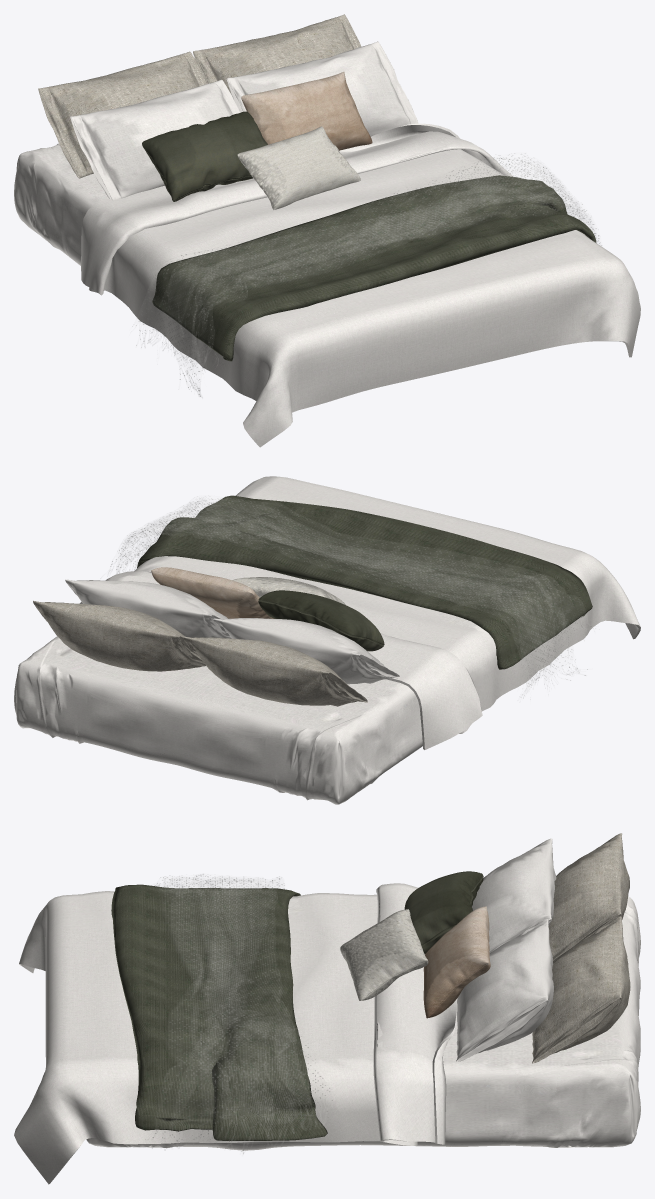
The model's file is bedding.glb.
3 views of the same model, one above another, from view 1: azimuth 30°, elevation 25°; view 2: azimuth 150°, elevation 25°; view 3: azimuth 270°, elevation 25° (orthographic). The views are drawn at different scales.
Visible parts, largest first — view 1: prefix_cover_StaticMeshComponent0, prefix_그린_StaticMeshComponent0, prefix_AI30_005_bed_04_StaticMeshComponent0, prefix_green-pillow002_StaticMeshComponent0, prefix_green-pillow_StaticMeshComponent0, prefix_green-pillow003_StaticMeshComponent0, prefix_green-stripe_StaticMeshComponent0, prefix_mattress_StaticMeshComponent0, prefix_50x50_green-_cushion_StaticMeshComponent0, prefix_50x50_green-_cushion001_StaticMeshComponent0, prefix_green-pillow001_StaticMeshComponent0; view 2: prefix_mattress_StaticMeshComponent0, prefix_그린_StaticMeshComponent0, prefix_cover_StaticMeshComponent0, prefix_AI30_005_bed_04_StaticMeshComponent0, prefix_green-pillow001_StaticMeshComponent0, prefix_green-pillow_StaticMeshComponent0, prefix_green-pillow002_StaticMeshComponent0, prefix_green-pillow003_StaticMeshComponent0, prefix_green-stripe_StaticMeshComponent0, prefix_50x50_green-_cushion_StaticMeshComponent0, prefix_50x50_green-_cushion001_StaticMeshComponent0; view 3: prefix_cover_StaticMeshComponent0, prefix_그린_StaticMeshComponent0, prefix_mattress_StaticMeshComponent0, prefix_AI30_005_bed_04_StaticMeshComponent0, prefix_green-pillow003_StaticMeshComponent0, prefix_green-pillow001_StaticMeshComponent0, prefix_green-pillow_StaticMeshComponent0, prefix_green-pillow002_StaticMeshComponent0, prefix_50x50_green-_cushion001_StaticMeshComponent0, prefix_50x50_green-_cushion_StaticMeshComponent0, prefix_green-stripe_StaticMeshComponent0.
Part boxes in pixels (x1=…): prefix_cover_StaticMeshComponent0: x1=81, y1=123, x2=640, y2=447; prefix_그린_StaticMeshComponent0: x1=152, y1=175, x2=596, y2=361; prefix_AI30_005_bed_04_StaticMeshComponent0: x1=136, y1=153, x2=601, y2=396; prefix_green-pillow002_StaticMeshComponent0: x1=70, y1=79, x2=240, y2=200; prefix_green-pillow_StaticMeshComponent0: x1=38, y1=51, x2=206, y2=178; prefix_green-pillow003_StaticMeshComponent0: x1=226, y1=41, x2=418, y2=136; prefix_green-stripe_StaticMeshComponent0: x1=142, y1=111, x2=267, y2=201; prefix_mattress_StaticMeshComponent0: x1=14, y1=143, x2=216, y2=265; prefix_50x50_green-_cushion_StaticMeshComponent0: x1=241, y1=71, x2=372, y2=150; prefix_50x50_green-_cushion001_StaticMeshComponent0: x1=237, y1=126, x2=360, y2=209; prefix_green-pillow001_StaticMeshComponent0: x1=193, y1=14, x2=361, y2=94; prefix_mattress_StaticMeshComponent0: x1=14, y1=611, x2=488, y2=804; prefix_그린_StaticMeshComponent0: x1=137, y1=495, x2=592, y2=669; prefix_cover_StaticMeshComponent0: x1=79, y1=476, x2=640, y2=749; prefix_AI30_005_bed_04_StaticMeshComponent0: x1=109, y1=496, x2=593, y2=698; prefix_green-pillow001_StaticMeshComponent0: x1=33, y1=600, x2=205, y2=671; prefix_green-pillow_StaticMeshComponent0: x1=182, y1=636, x2=367, y2=706; prefix_green-pillow002_StaticMeshComponent0: x1=213, y1=618, x2=399, y2=684; prefix_green-pillow003_StaticMeshComponent0: x1=65, y1=579, x2=231, y2=638; prefix_green-stripe_StaticMeshComponent0: x1=258, y1=590, x2=384, y2=651; prefix_50x50_green-_cushion_StaticMeshComponent0: x1=151, y1=567, x2=273, y2=618; prefix_50x50_green-_cushion001_StaticMeshComponent0: x1=232, y1=577, x2=345, y2=604; prefix_cover_StaticMeshComponent0: x1=14, y1=883, x2=456, y2=1184; prefix_그린_StaticMeshComponent0: x1=111, y1=884, x2=327, y2=1140; prefix_mattress_StaticMeshComponent0: x1=86, y1=896, x2=640, y2=1150; prefix_AI30_005_bed_04_StaticMeshComponent0: x1=139, y1=874, x2=335, y2=1153; prefix_green-pillow003_StaticMeshComponent0: x1=456, y1=919, x2=553, y2=1061; prefix_green-pillow001_StaticMeshComponent0: x1=532, y1=916, x2=630, y2=1063; prefix_green-pillow_StaticMeshComponent0: x1=548, y1=833, x2=629, y2=960; prefix_green-pillow002_StaticMeshComponent0: x1=472, y1=838, x2=556, y2=952; prefix_50x50_green-_cushion001_StaticMeshComponent0: x1=340, y1=909, x2=428, y2=1000; prefix_50x50_green-_cushion_StaticMeshComponent0: x1=423, y1=906, x2=490, y2=1018; prefix_green-stripe_StaticMeshComponent0: x1=404, y1=871, x2=483, y2=953.
Bounding box in the file's own units: 1.99 × 0.7052 × 2.25.
Materials: 7 (7 with a texture image).
